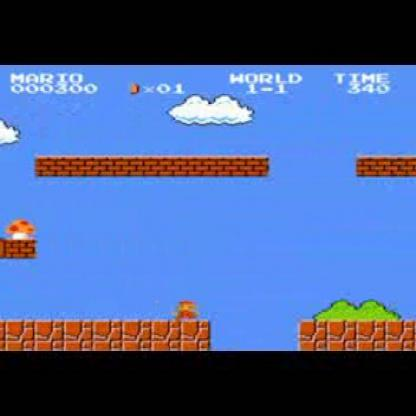Hoyo: (203, 317, 304, 350)
